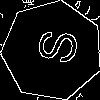S: (27, 25, 79, 66)
